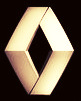Renault: (3, 2, 77, 98)
